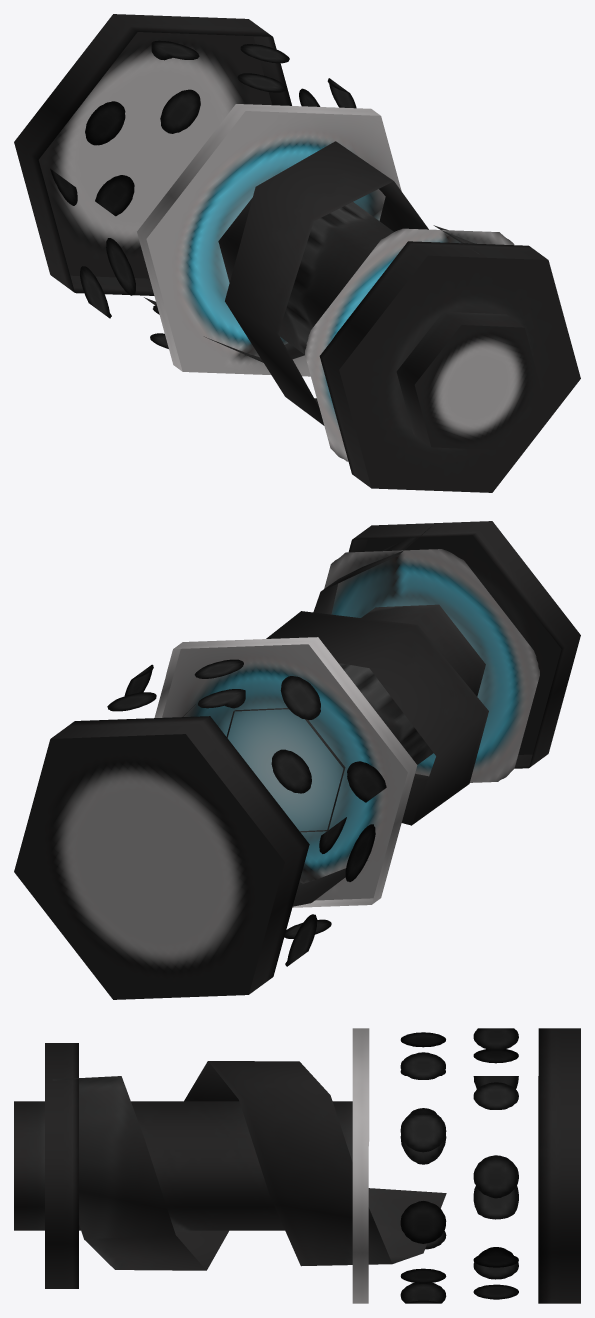
Rendered from obj_interactive_suspensionsport_04_off_lod1.fbx.
The picture shows the model from 3 angles, top to bottom: view 1: azimuth 30°, elevation 25°; view 2: azimuth 150°, elevation 25°; view 3: azimuth 270°, elevation 25°; orthographic projection. The views are drawn at different scales.
Parts seen in each view (by area): view 1: obj_interactive_suspensionsport_04_off_lod1; view 2: obj_interactive_suspensionsport_04_off_lod1; view 3: obj_interactive_suspensionsport_04_off_lod1.
Part boxes in pixels (<box>): obj_interactive_suspensionsport_04_off_lod1: <box>14,14,580,492</box>; obj_interactive_suspensionsport_04_off_lod1: <box>14,521,580,999</box>; obj_interactive_suspensionsport_04_off_lod1: <box>14,1028,580,1303</box>.
Size of the model in its own units: 1.02 by 1.02 by 2.14.
